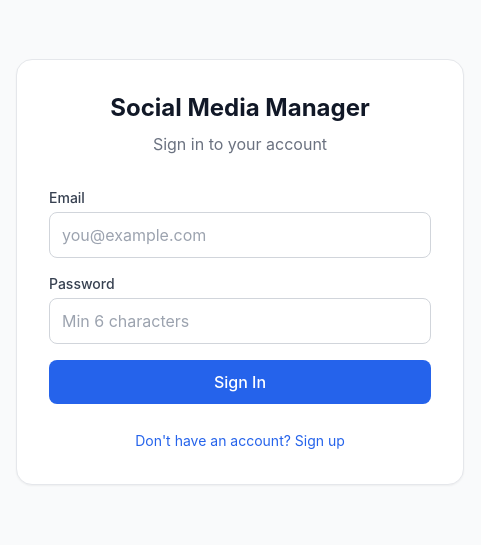
Test case: Login page › switches to register form
Click the button "Don't have an account? Sign up" at x=240, y=441, box [135,431,345,451]
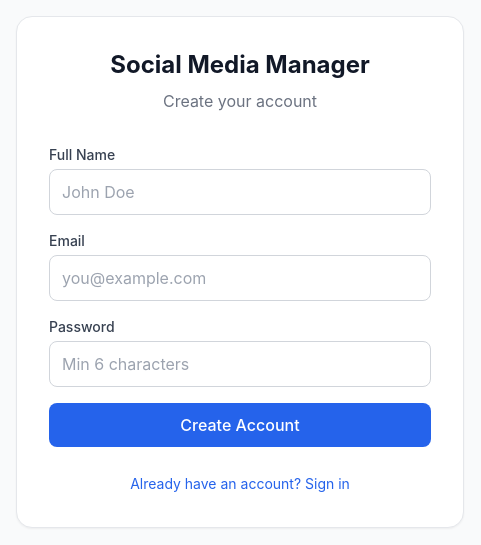
Check: the text "Create your account" is shown, box [163,91,317,111]
Check: the button "Create Account" is shown, box [49,403,431,447]
Check: the field with placeholder "John Doe" is shown, box [49,169,431,215]
